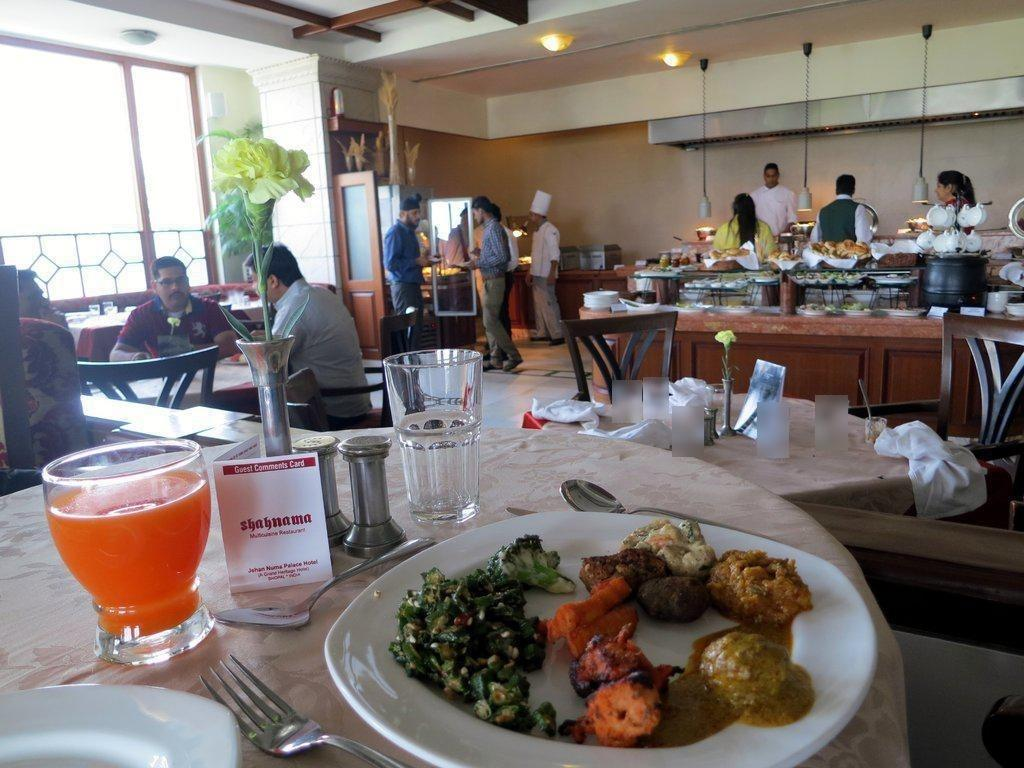glass-normal: (41, 441, 215, 666), (382, 347, 485, 521)
